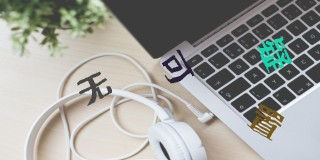可: (162, 48, 194, 84)
无: (75, 71, 112, 106)
疑: (257, 36, 293, 74)
置: (247, 103, 285, 141)
